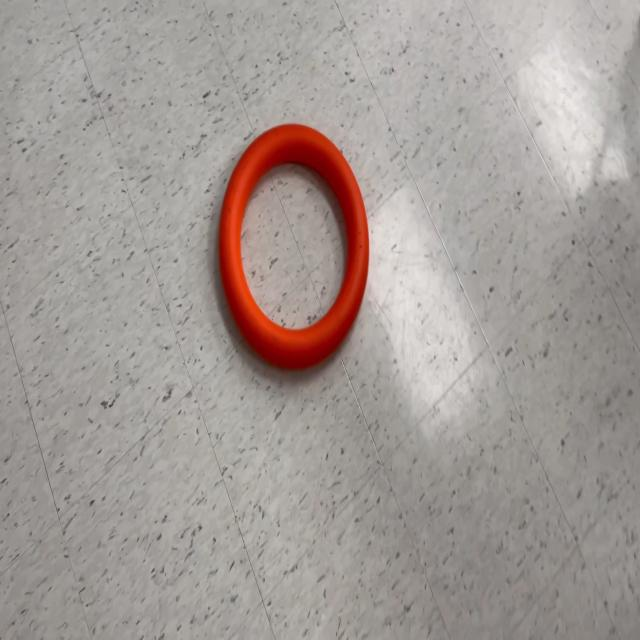note: (216, 122, 372, 376)
